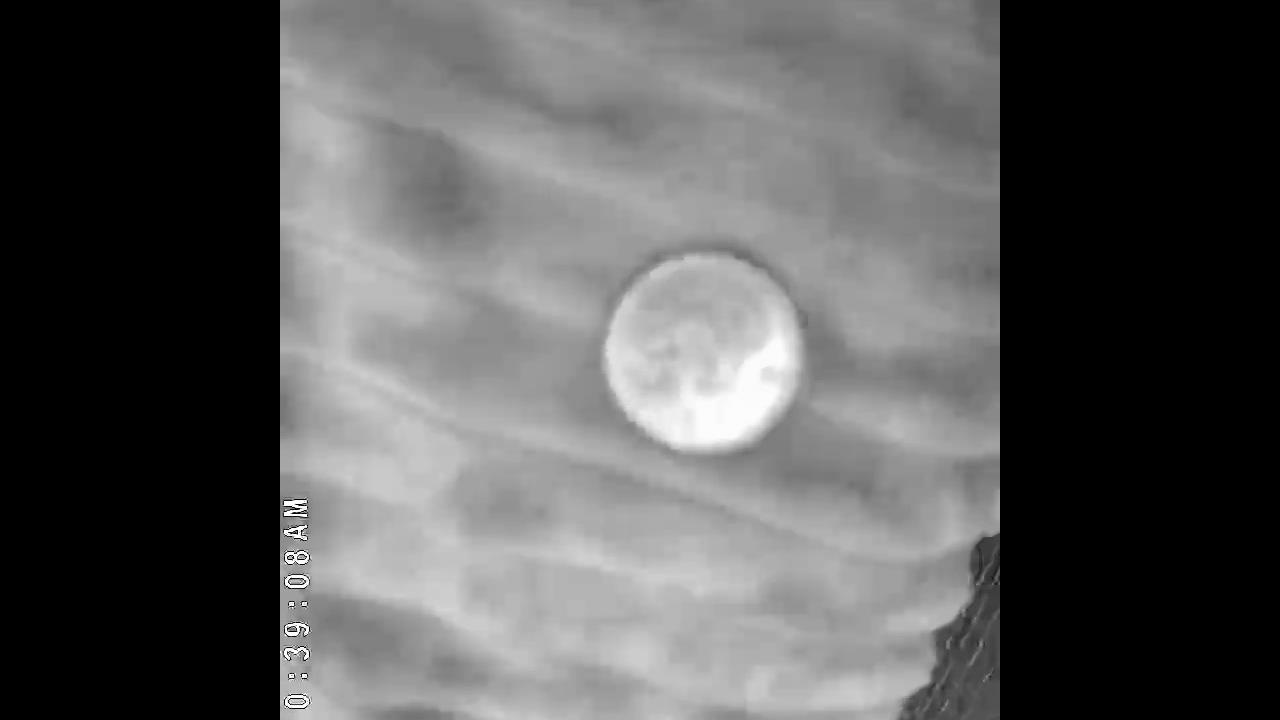coin: (596, 241, 810, 461)
